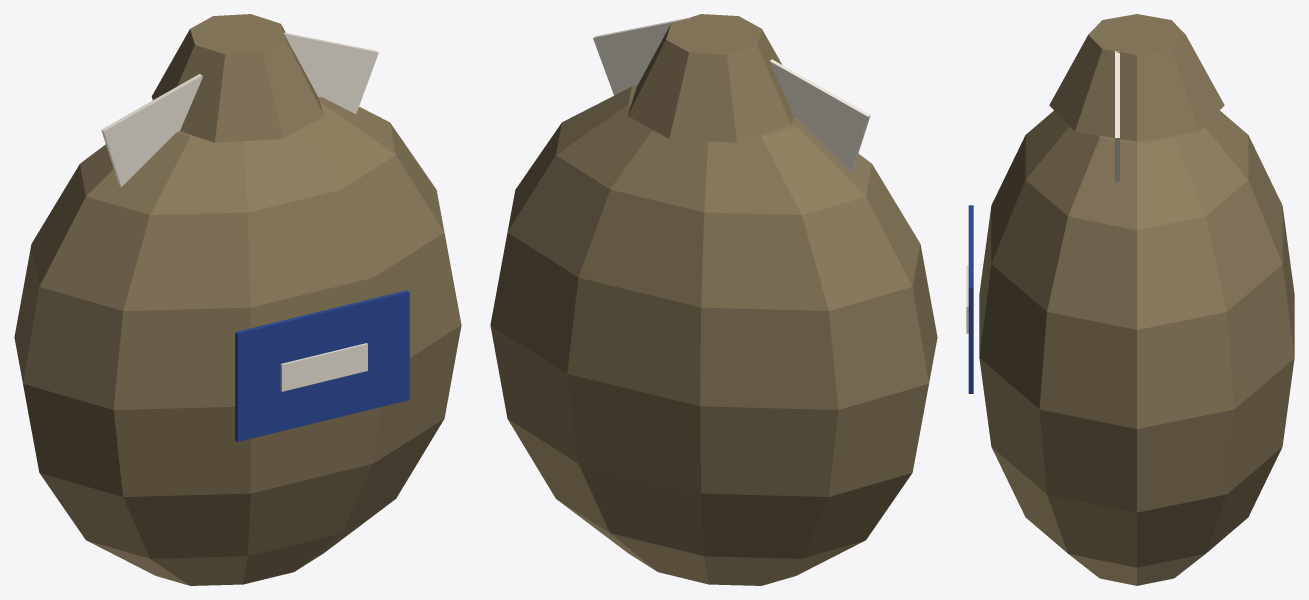
Rendered from letters_bag.glb.
3 views of the same model, side by side, from view 1: azimuth 30°, elevation 25°; view 2: azimuth 150°, elevation 25°; view 3: azimuth 270°, elevation 25° (orthographic).
Parts seen in each view (by area): view 1: sack_mail_canvas (×2), stamp_mail_blue, envelopes_mail_white (×2), stamp_mail_white; view 2: sack_mail_canvas (×2), envelopes_mail_white (×2); view 3: sack_mail_canvas (×2), stamp_mail_blue, envelopes_mail_white.
Part boxes in pixels (<box>): sack_mail_canvas (×2): <box>14,14,461,585</box>; stamp_mail_blue: <box>235,290,409,441</box>; envelopes_mail_white (×2): <box>101,32,378,186</box>; stamp_mail_white: <box>280,343,367,391</box>; sack_mail_canvas (×2): <box>490,14,937,585</box>; envelopes_mail_white (×2): <box>593,17,870,171</box>; sack_mail_canvas (×2): <box>979,14,1294,585</box>; stamp_mail_blue: <box>968,205,973,393</box>; envelopes_mail_white: <box>1115,51,1119,181</box>.
Bounding box in the file's own units: 0.5 × 0.6002 × 0.3367.
